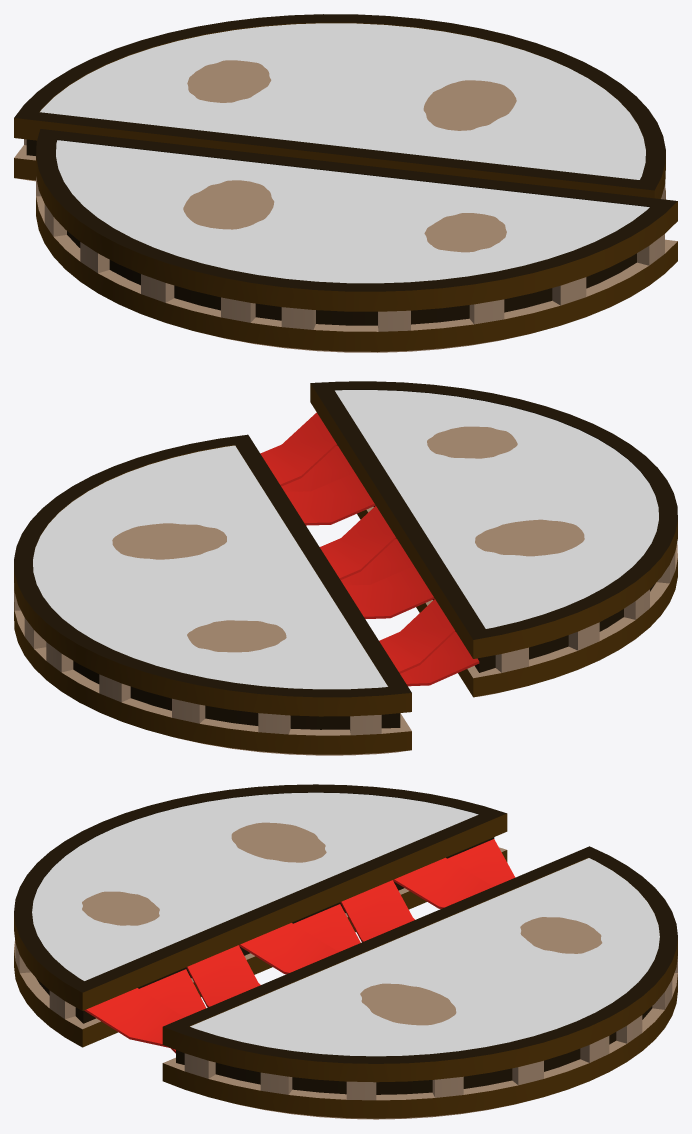
File: Level.7.fbx
3 views of the same model, one above another, from view 1: azimuth 30°, elevation 25°; view 2: azimuth 150°, elevation 25°; view 3: azimuth 270°, elevation 25° (orthographic). The views are drawn at different scales.
Parts seen in each view (by area): view 1: Level.7; view 2: Level.7; view 3: Level.7.
Boxes of the visible parts, <box> form: Level.7: <box>14,14,677,352</box>; Level.7: <box>14,381,677,755</box>; Level.7: <box>14,784,677,1119</box>.
Size of the model in its own units: 2996 by 466 by 3296.
